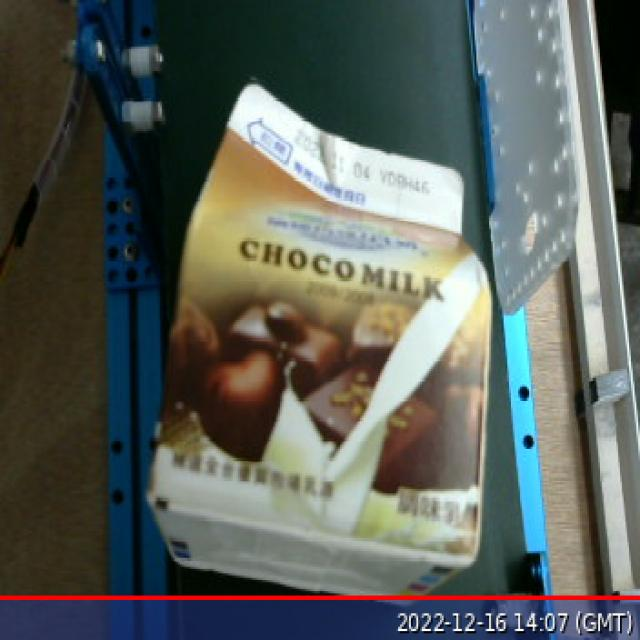non_white_jug: (114, 56, 507, 615)
